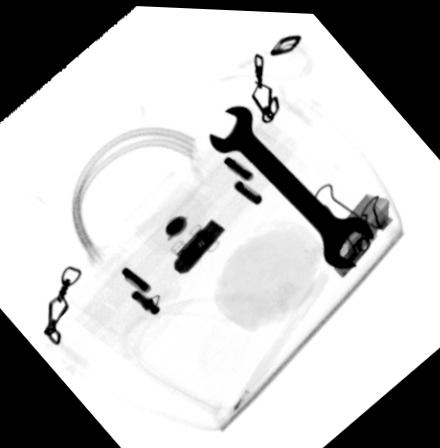Wrench: (206, 99, 375, 268)
